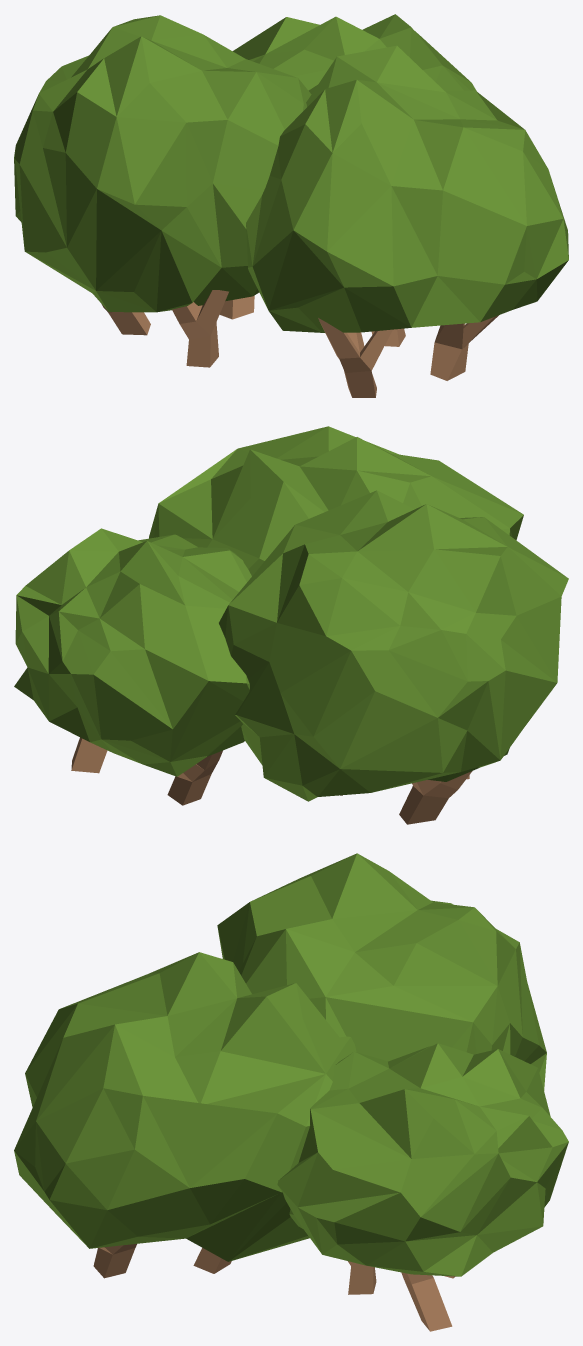
File: bushes1.obj
3 views of the same model, one above another, from view 1: azimuth 30°, elevation 25°; view 2: azimuth 150°, elevation 25°; view 3: azimuth 270°, elevation 25° (orthographic). The views are drawn at different scales.
Parts seen in each view (by area): view 1: Bush_group_big_Plane.138; view 2: Bush_group_big_Plane.138; view 3: Bush_group_big_Plane.138.
Boxes of the visible parts, x1=… form: Bush_group_big_Plane.138: x1=14, y1=14, x2=568, y2=397; Bush_group_big_Plane.138: x1=14, y1=426, x2=568, y2=824; Bush_group_big_Plane.138: x1=14, y1=853, x2=568, y2=1331.
Bounding box in the file's own units: 6.84 × 4.25 × 6.72.
